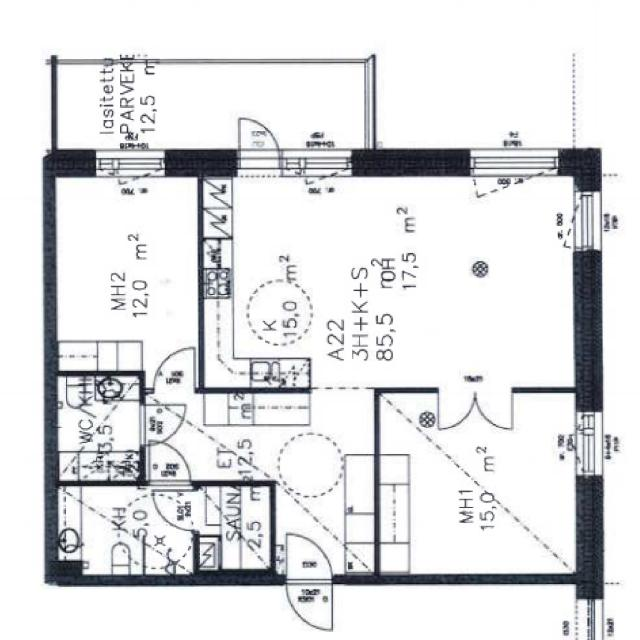door: (239, 109, 279, 176), (286, 573, 332, 631), (286, 528, 332, 585), (154, 347, 194, 394), (150, 441, 190, 487), (153, 491, 200, 530), (140, 406, 183, 444), (438, 387, 475, 429), (475, 387, 512, 429)
